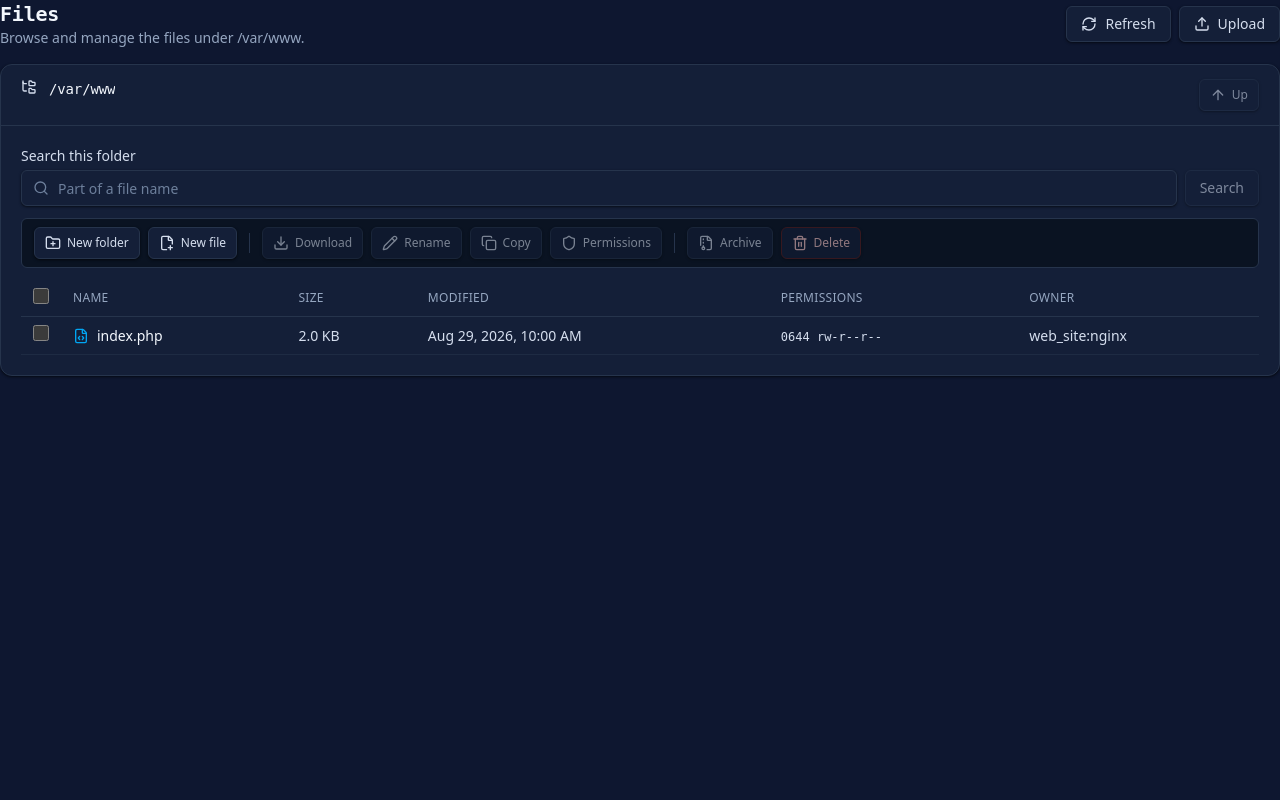
FilesPage file actions › asks before deleting from the menu
What coordinates should you click on to do the following:
click the button "index.php"
I would click on:
 (130, 336)
Its box is [97, 326, 162, 346].
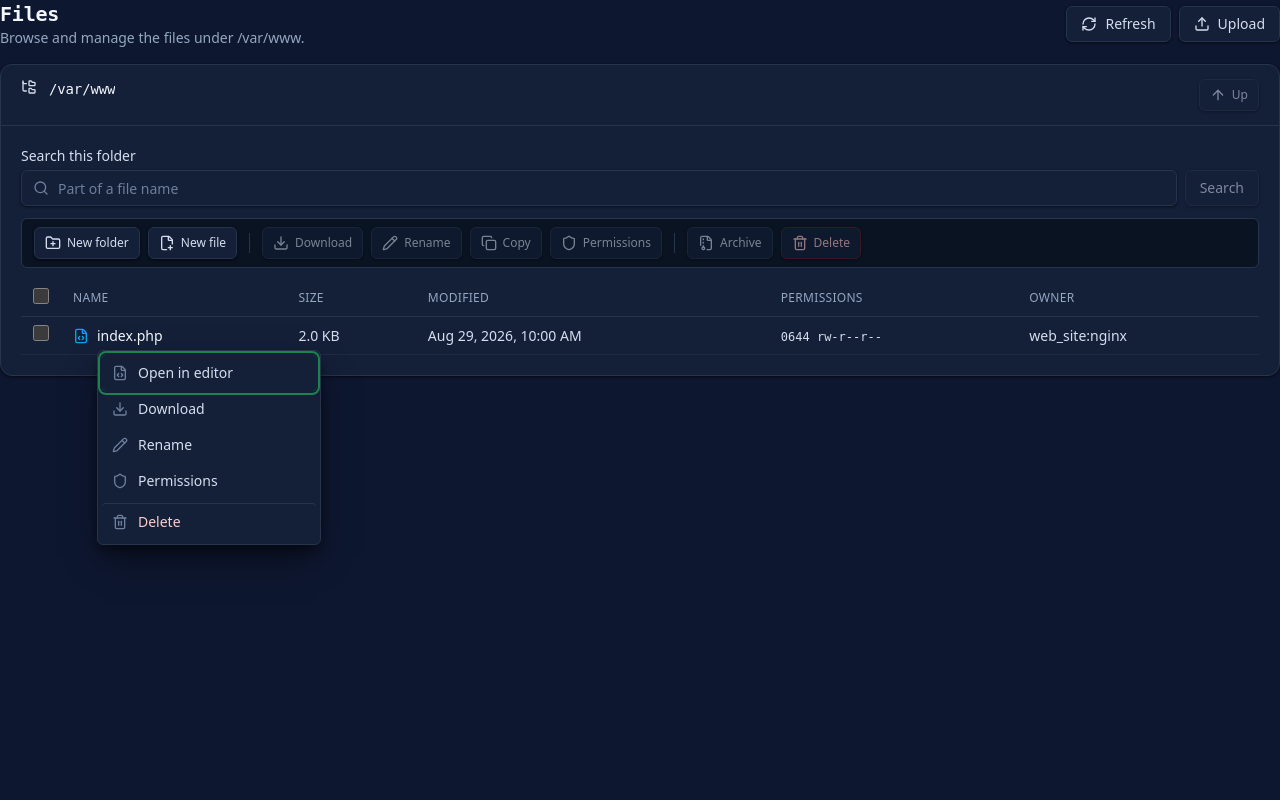
What coordinates should you click on to do the following:
click the menu item "Delete"
I would click on:
 (209, 521)
Its box is [102, 502, 316, 540].
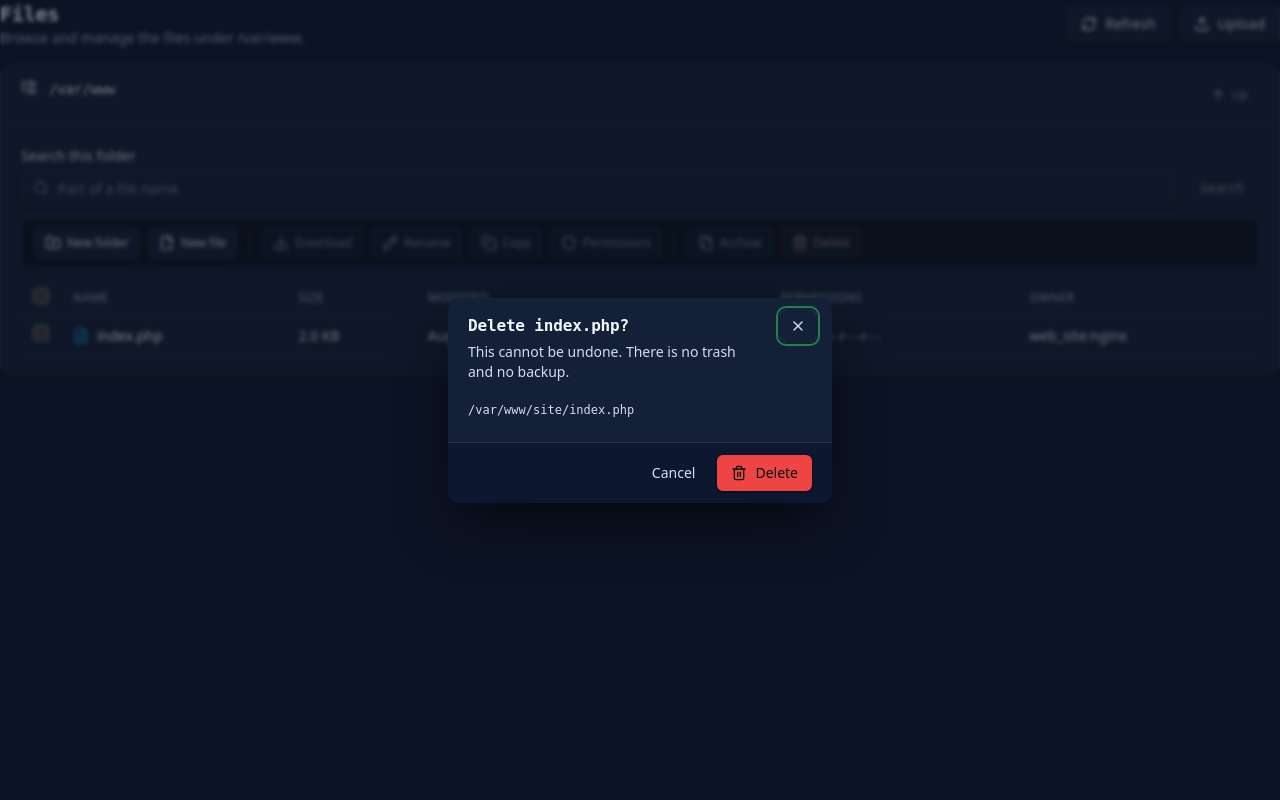
Expected: the heading "Delete index.php?" is shown, [468, 316, 629, 334]
Expected: the text "This cannot be undone. There is no trash and no backup." is shown, [468, 342, 764, 382]
